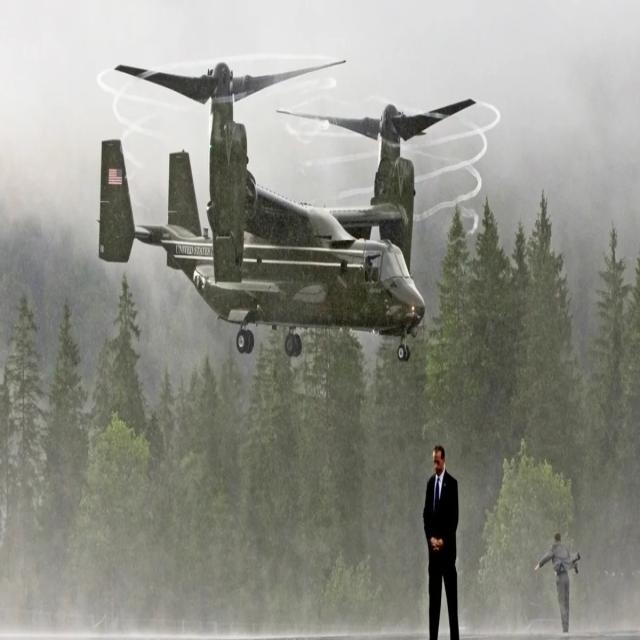MIL_Plane: (97, 0, 476, 272)
